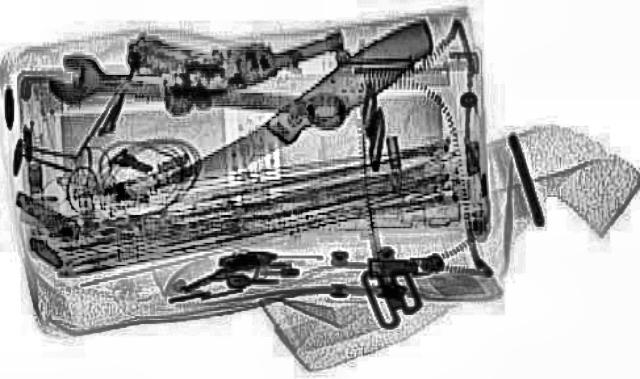Knife: (156, 14, 462, 204)
Wrench: (35, 50, 355, 138)
